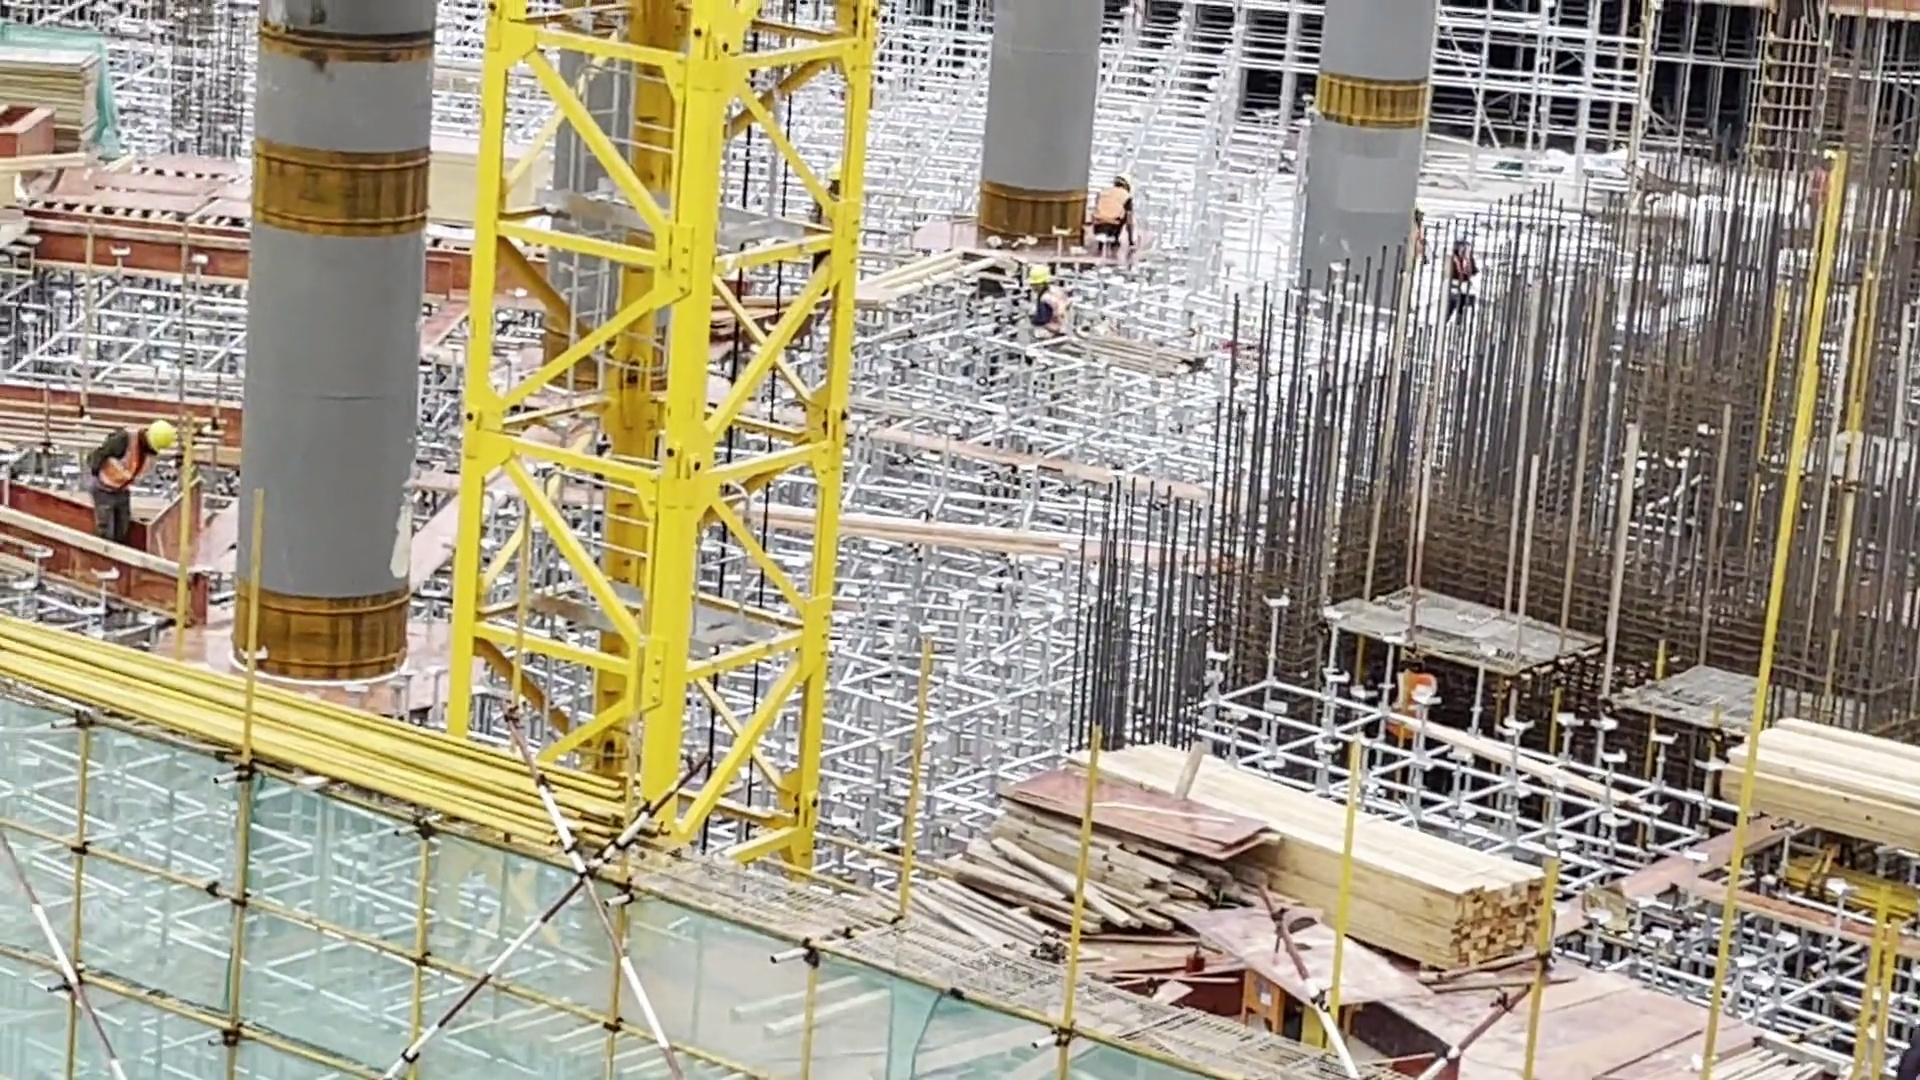helmet: (148, 408, 181, 454), (819, 156, 857, 192), (1020, 260, 1052, 287), (1446, 229, 1482, 252), (1110, 169, 1138, 193)
person: (81, 417, 175, 530), (1438, 232, 1489, 333), (1089, 176, 1143, 246), (1017, 258, 1066, 336)
vest: (94, 423, 157, 490), (1027, 289, 1061, 328), (1099, 185, 1126, 221)
